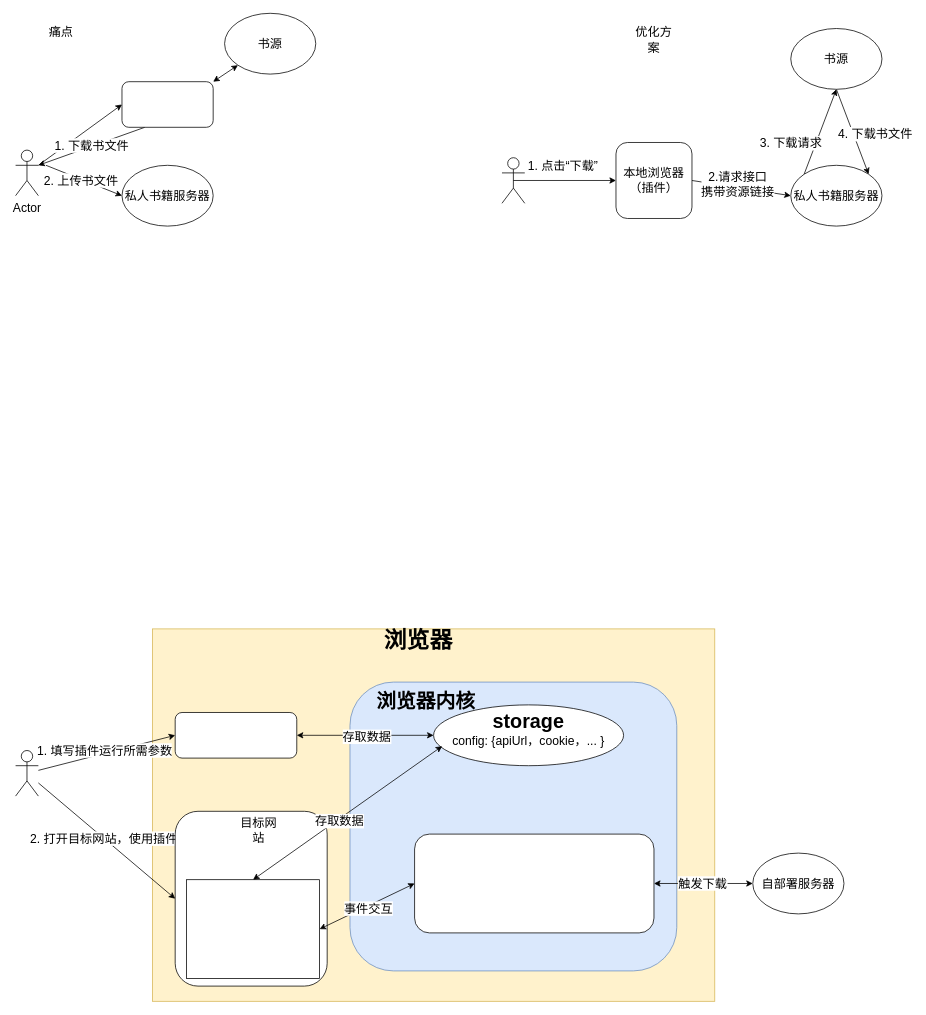
Some shapes in this 926 by 1015 pixel diagram are drawn without their labels. The centre of each missing label's shape, as x and y in pixels:
"background.js onMessage: 处理getCookies、sendRequest、setCookie 等事件，并异步返回结果" belongs at (x=534, y=883).
"content.html - 创建dom - 监听dom事件（下载按钮点击触发请求） - background转发请求 - 接受background响应" belongs at (x=253, y=928).
"popup.html" belongs at (x=235, y=735).
"本地浏览器" belongs at (x=167, y=104).
